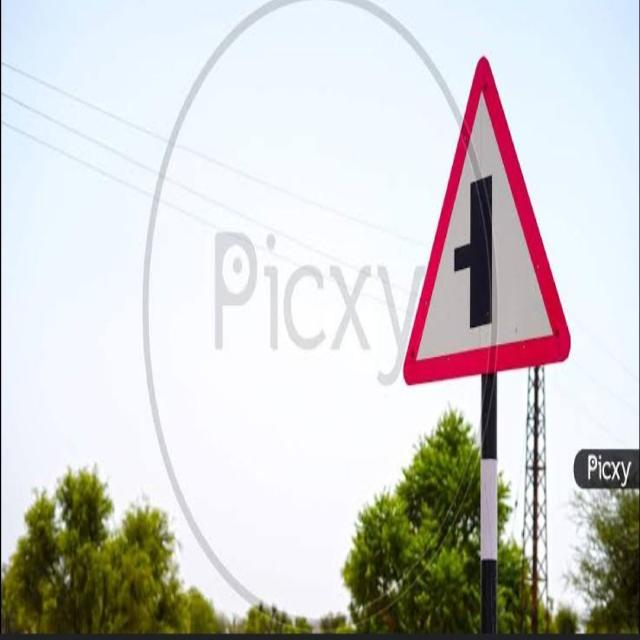Sideroad_toleft: (401, 58, 568, 383)
